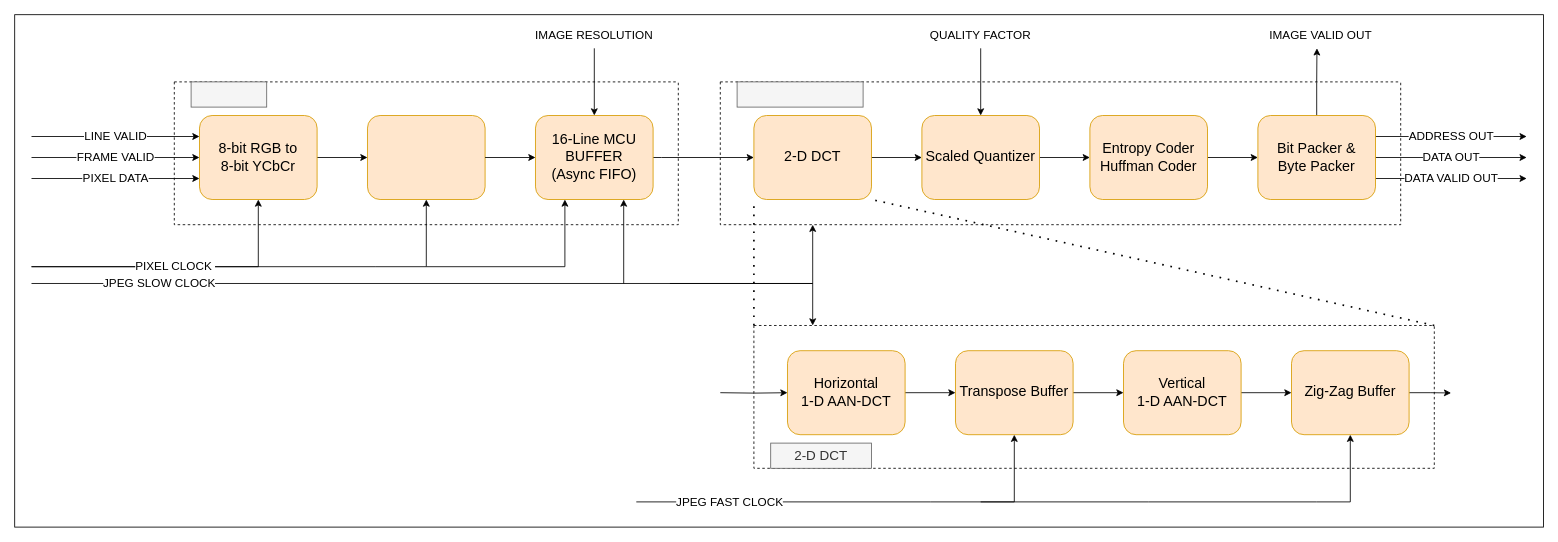
Some shapes in this 1558 by 542 pixel diagram are drawn without their labels. The shapes that lost their labels are listed below. From the top down, each one's centre as x and y in pixels, then its label:
point 228,94: JPEG ISP
point 799,94: JPEG ENCODER
point 426,157: 4:2:0 Subsample
